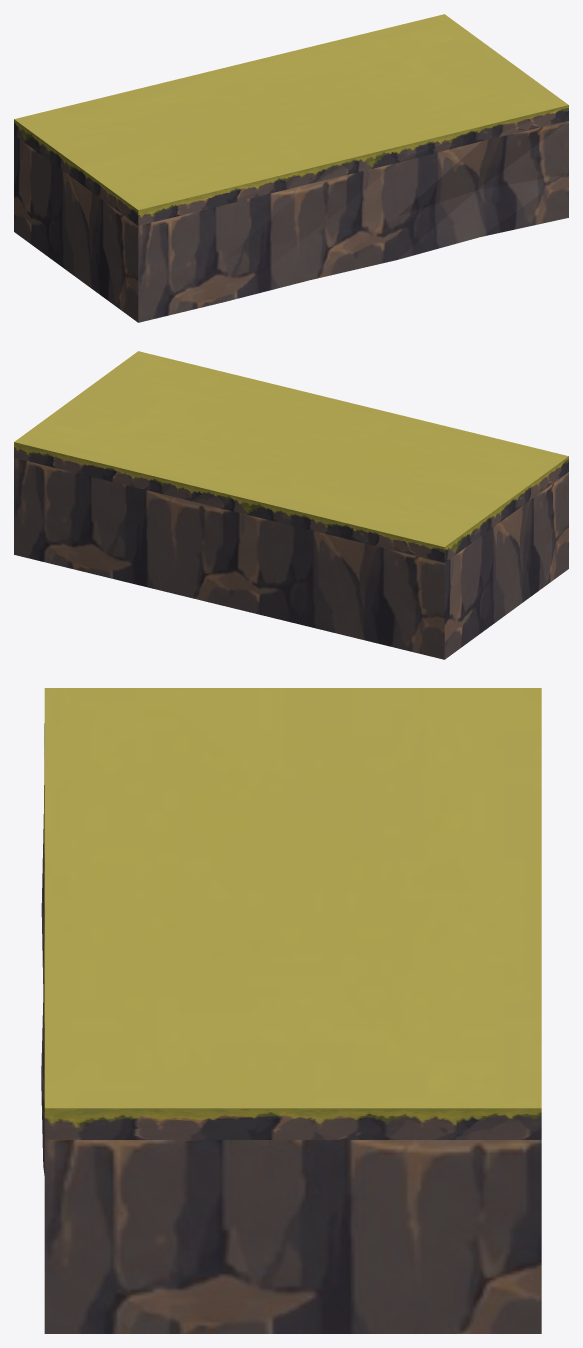
Rendered from SM_RC_Terrain_Cliff_8x2.gltf.
3 views of the same model, one above another, from view 1: azimuth 30°, elevation 25°; view 2: azimuth 150°, elevation 25°; view 3: azimuth 270°, elevation 25° (orthographic). The views are drawn at different scales.
Visible parts, largest first — view 1: SM_RC_Terrain_Cliff_8x2; view 2: SM_RC_Terrain_Cliff_8x2; view 3: SM_RC_Terrain_Cliff_8x2.
Boxes of the visible parts, x1,y1,x2,y2 form: SM_RC_Terrain_Cliff_8x2: (14, 14, 568, 322); SM_RC_Terrain_Cliff_8x2: (14, 351, 568, 659); SM_RC_Terrain_Cliff_8x2: (41, 688, 541, 1333).
Size of the model in its own units: 8 by 2 by 4.03.
Materials: 1 (1 with a texture image).
